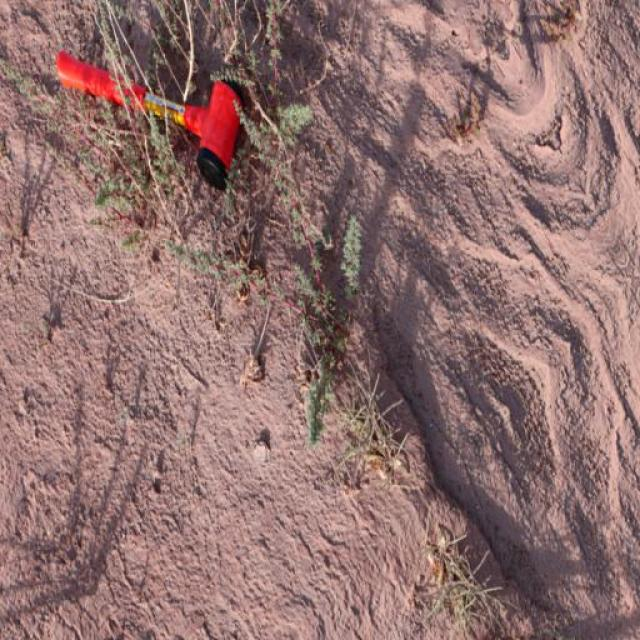mallet: (55, 46, 249, 190)
